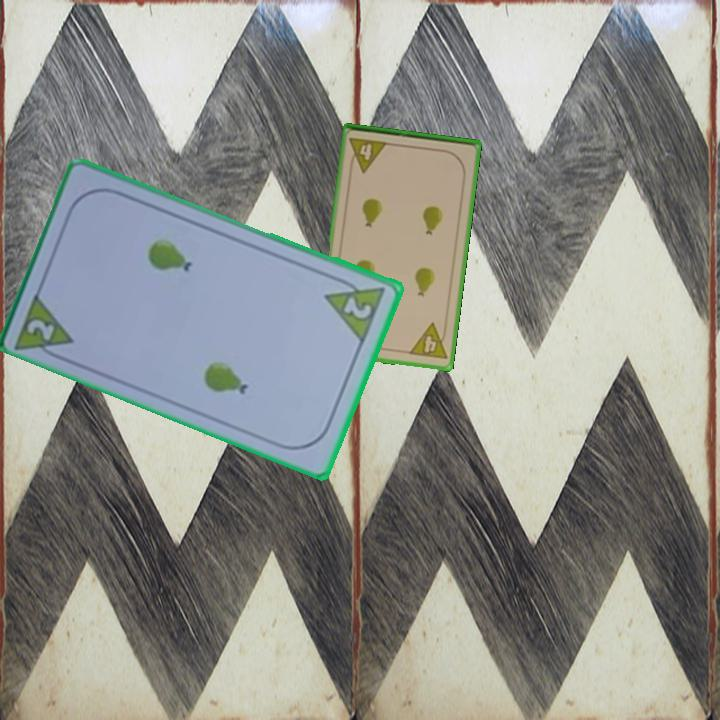2p: (321, 271, 389, 346), (23, 315, 58, 344)
4p: (405, 320, 450, 363), (346, 134, 391, 175)
